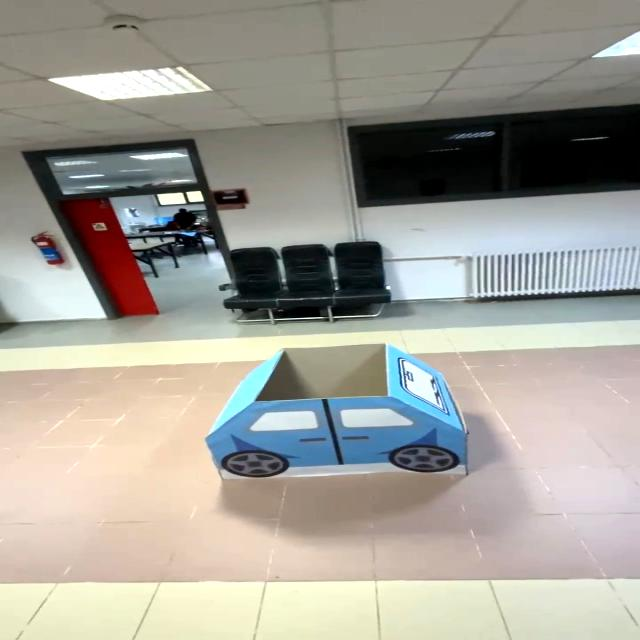blue_car: (185, 331, 492, 486)
